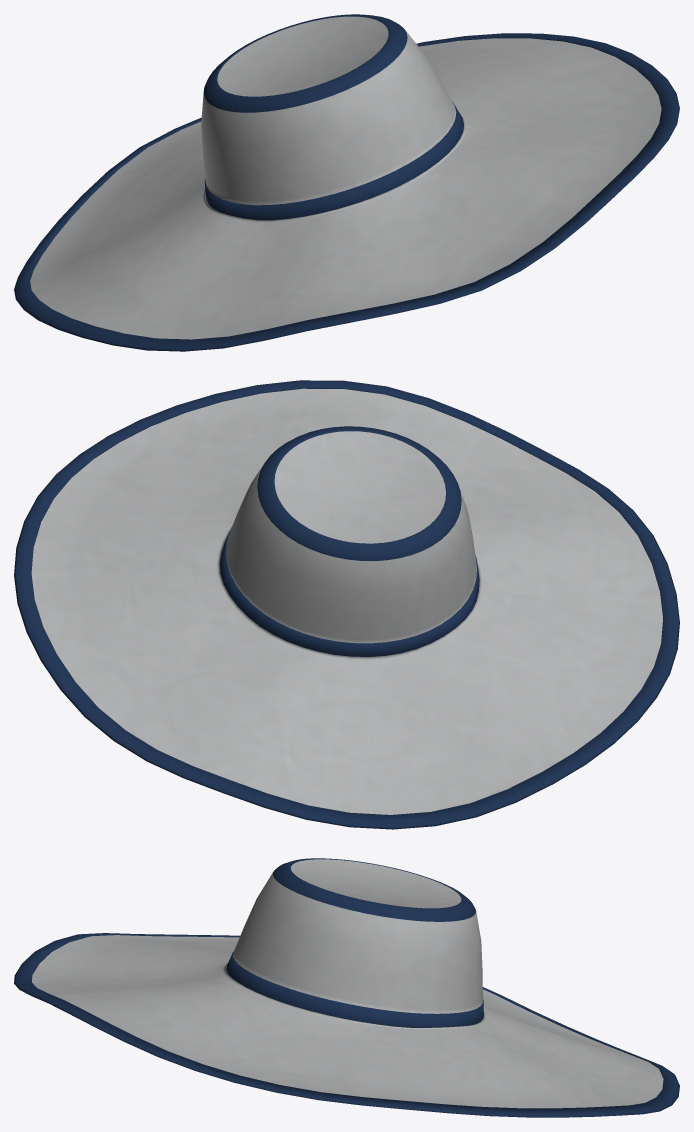
File: Sombrero para el sol.fbx
The picture shows the model from 3 angles, top to bottom: view 1: azimuth 30°, elevation 25°; view 2: azimuth 150°, elevation 25°; view 3: azimuth 270°, elevation 25°; orthographic projection. The views are drawn at different scales.
Parts seen in each view (by area): view 1: vic_sunday_hat_HP__0; view 2: vic_sunday_hat_HP__0; view 3: vic_sunday_hat_HP__0.
Boxes of the visible parts, bbox=[...] form: vic_sunday_hat_HP__0: bbox=[14, 14, 679, 351]; vic_sunday_hat_HP__0: bbox=[14, 380, 679, 829]; vic_sunday_hat_HP__0: bbox=[14, 858, 679, 1117].
Size of the model in its own units: 3510 by 1474 by 3530.
1 material, 1 textured.
